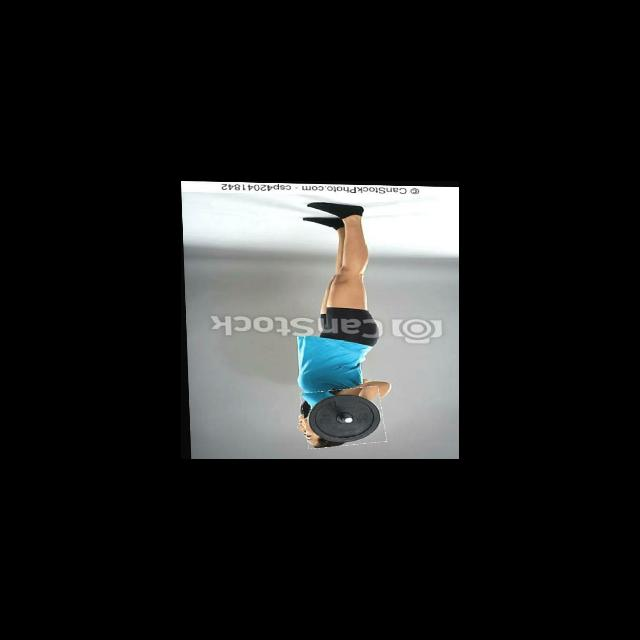barbell: (300, 386, 383, 447)
